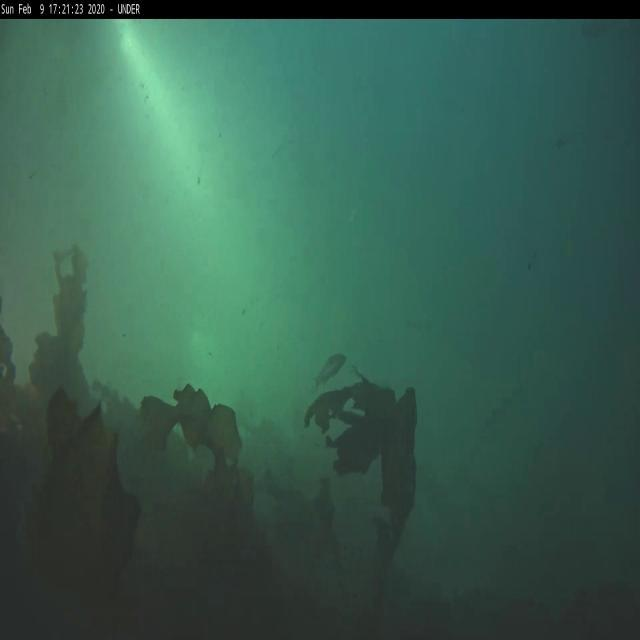fish: (317, 353, 347, 384)
